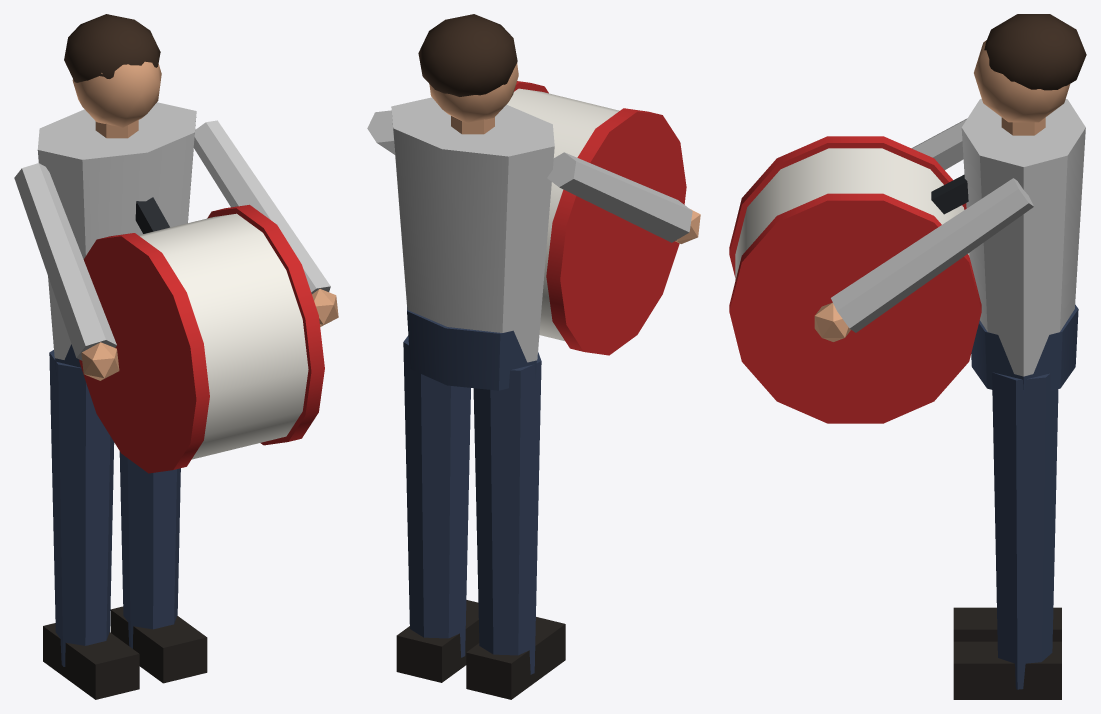
File: person_d.fbx
The picture shows the model from 3 angles, left to right: view 1: azimuth 30°, elevation 25°; view 2: azimuth 150°, elevation 25°; view 3: azimuth 270°, elevation 25°; orthographic projection. The views are drawn at different scales.
Parts seen in each view (by area): view 1: person_d; view 2: person_d; view 3: person_d.
Boxes of the visible parts, bbox=[...] form: person_d: bbox=[14, 14, 338, 699]; person_d: bbox=[367, 14, 700, 699]; person_d: bbox=[729, 14, 1086, 699].
Bounding box in the file's own units: 0.7467 × 1.8 × 0.892.
